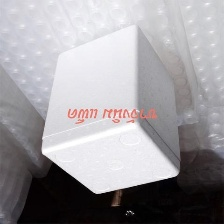foam_box: (37, 21, 186, 197)
